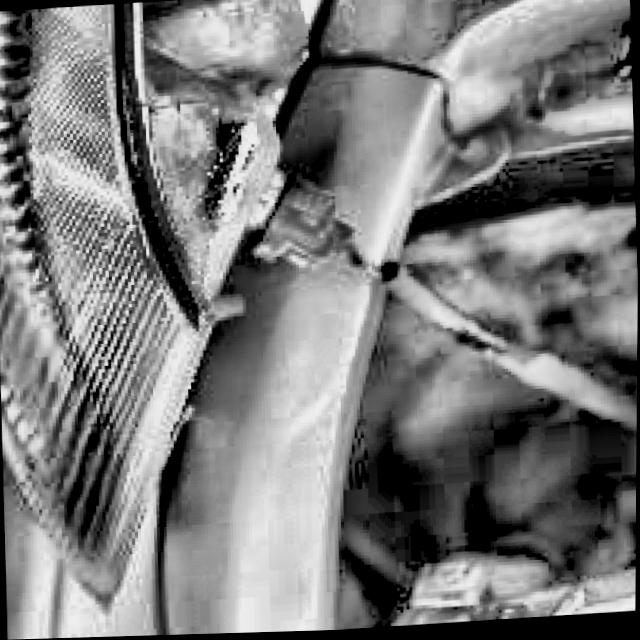head_lamp: (328, 37, 640, 629), (0, 0, 301, 338)
